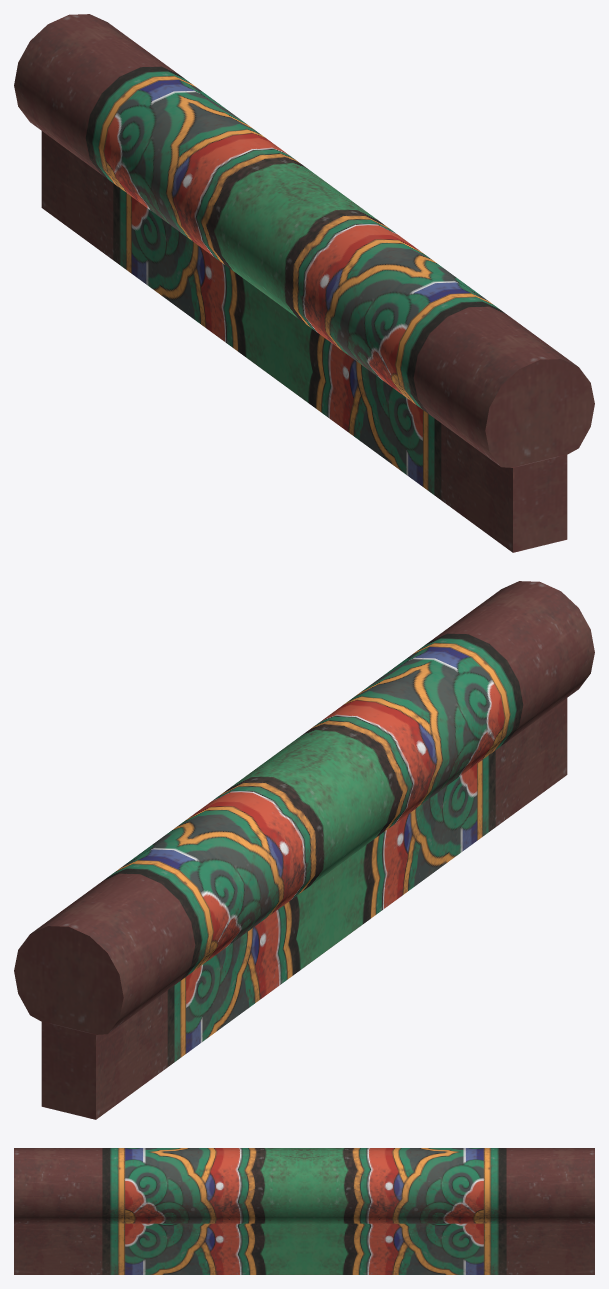
The model's file is SM_Purlin03g.fbx.
The picture shows the model from 3 angles, top to bottom: view 1: azimuth 30°, elevation 25°; view 2: azimuth 150°, elevation 25°; view 3: azimuth 270°, elevation 25°; orthographic projection. The views are drawn at different scales.
Visible parts, largest first — view 1: SM_Purlin03g; view 2: SM_Purlin03g; view 3: SM_Purlin03g.
Boxes of the visible parts, x1,y1,x2,y2 form: SM_Purlin03g: (14, 14, 594, 552); SM_Purlin03g: (14, 581, 594, 1119); SM_Purlin03g: (14, 1148, 594, 1274).
Size of the model in its own units: 20.15 by 150 by 32.73.
Materials: 1 (1 with a texture image).
